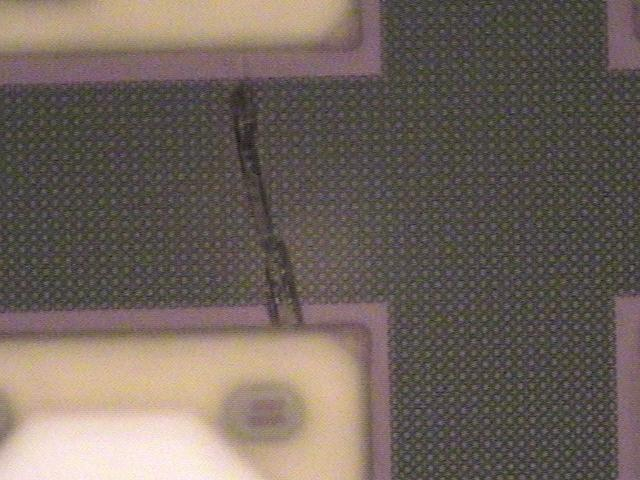SCRATCH: (219, 49, 311, 337)
